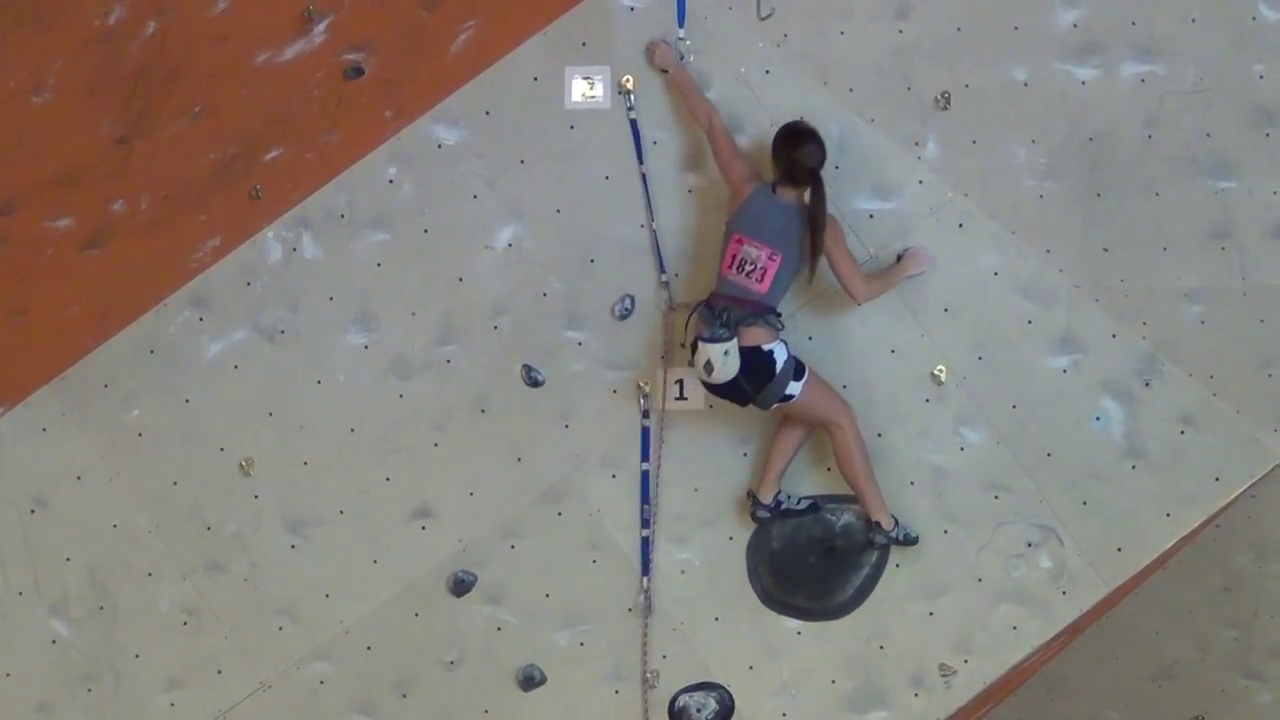person: (647, 39, 937, 550)
